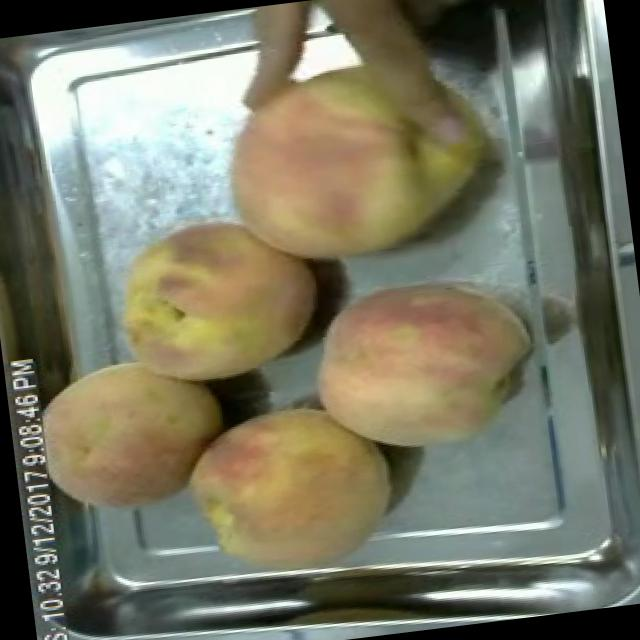Fruit: (198, 0, 511, 289), (294, 256, 548, 469), (168, 382, 411, 598), (93, 198, 334, 404), (10, 336, 243, 529)
